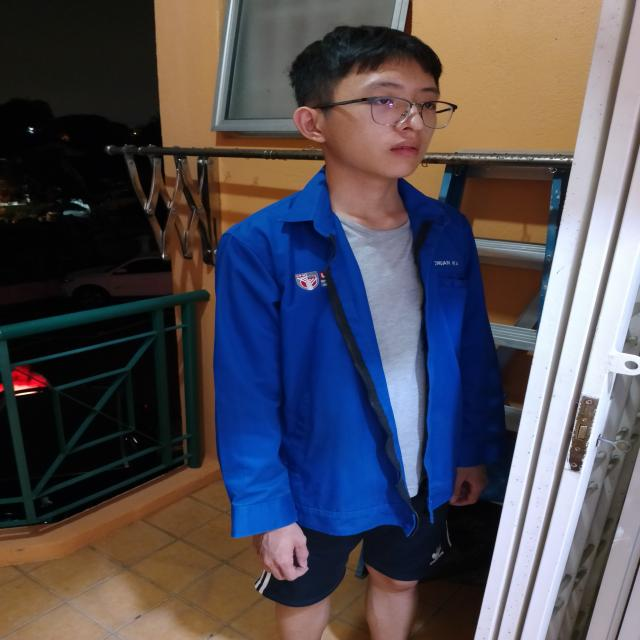person_with_labcoat: (214, 26, 503, 640)
